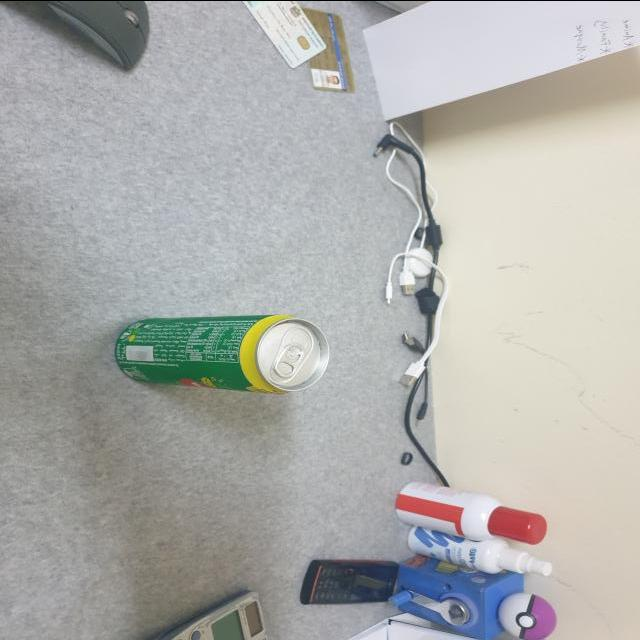can: (116, 316, 330, 392)
